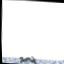drone: (18, 55, 36, 64)
